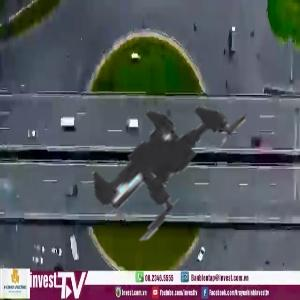drone: (3, 5, 299, 300)
